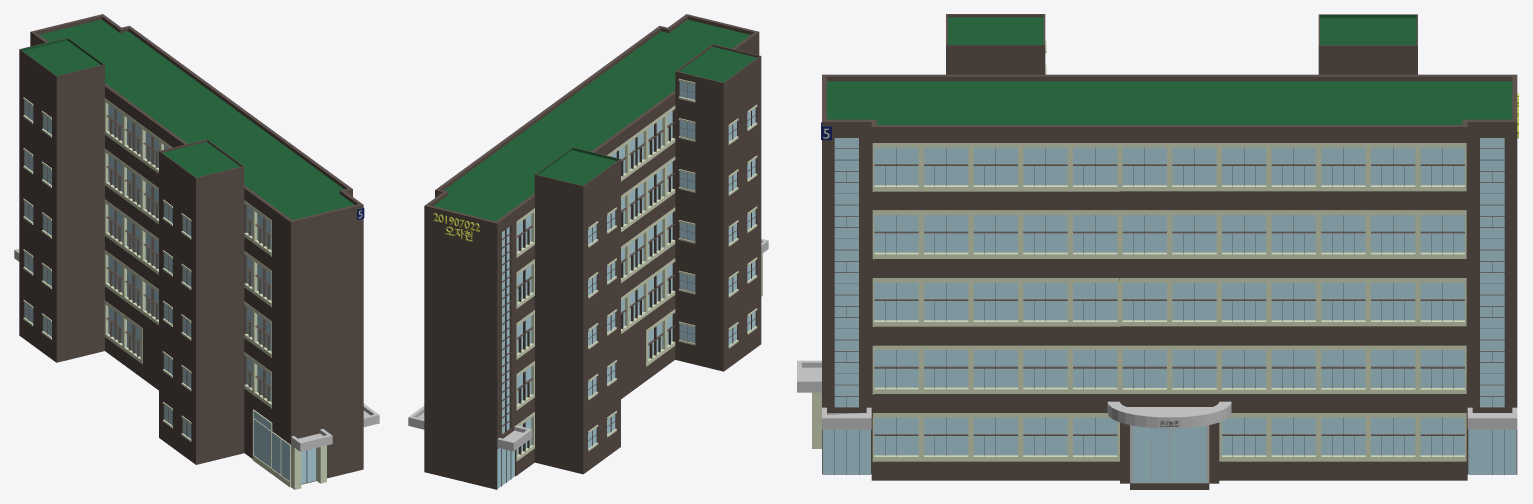
File: 5building_8.glb
3 views of the same model, side by side, from view 1: azimuth 30°, elevation 25°; view 2: azimuth 150°, elevation 25°; view 3: azimuth 270°, elevation 25° (orthographic). The views are drawn at different scales.
Parts seen in each view (by area): view 1: total; view 2: total; view 3: total.
Boxes of the visible parts, <box> form: total: <box>14,14,379,489</box>; total: <box>408,14,768,489</box>; total: <box>797,14,1518,489</box>.
Size of the model in its own units: 95.6 by 170 by 291.
